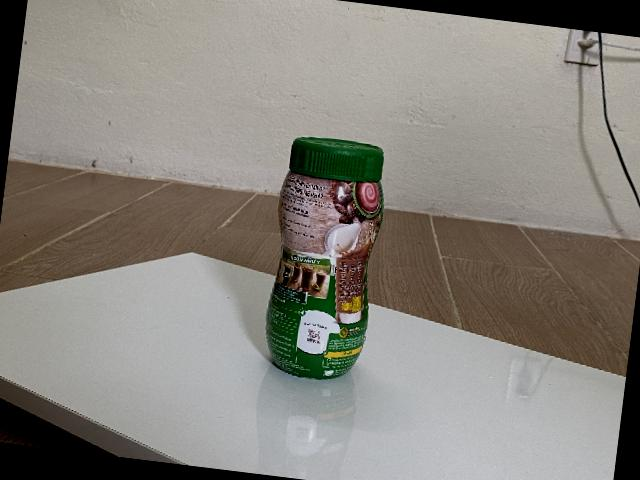milo: (264, 137, 384, 382)
